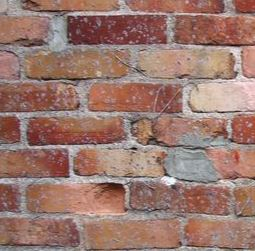brick: (26, 182, 128, 216), (139, 48, 240, 81), (65, 15, 170, 46), (83, 218, 182, 249), (73, 146, 164, 179), (23, 50, 130, 78), (25, 114, 128, 143), (88, 82, 184, 113), (173, 13, 255, 46), (1, 82, 79, 113), (186, 216, 255, 249), (1, 217, 79, 246), (1, 146, 69, 179), (189, 82, 255, 112), (231, 114, 255, 144)
